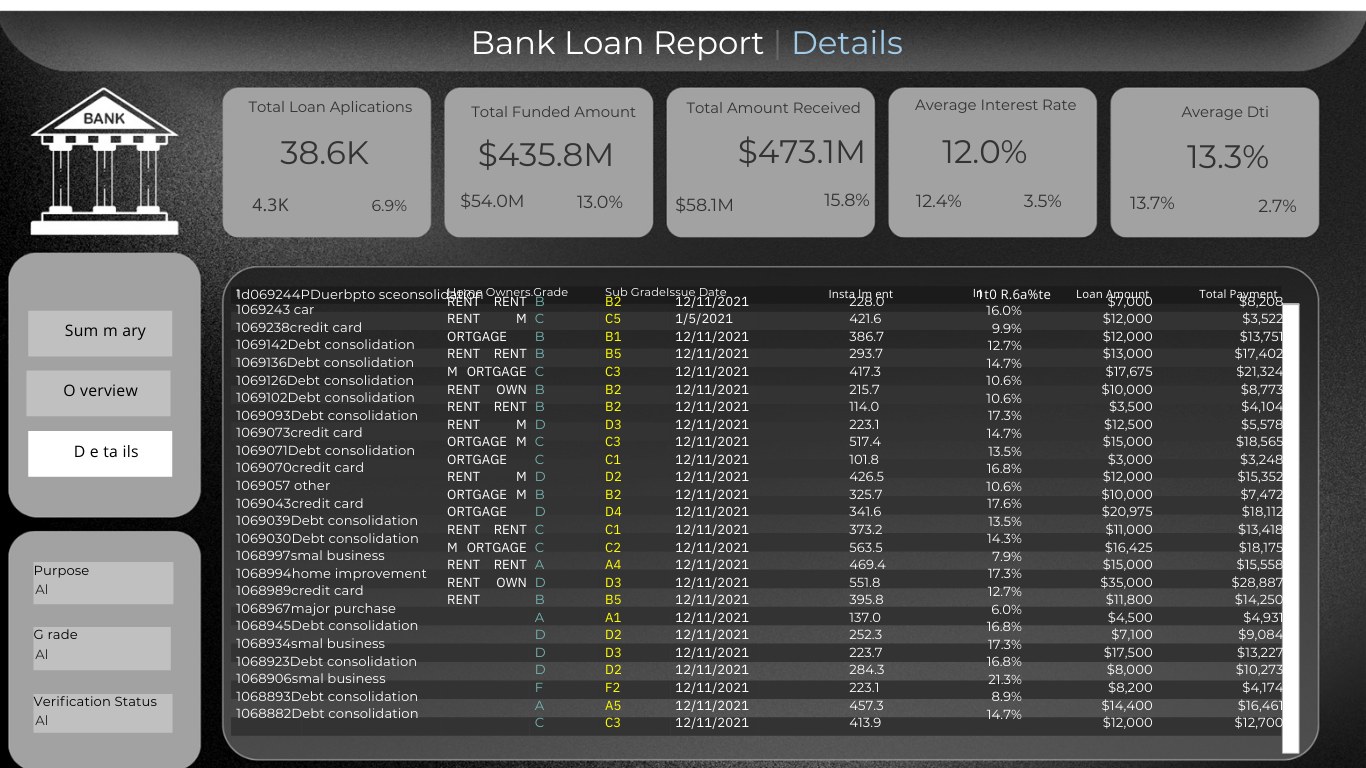

The page's visual inventory and layout, read from the dashboard file:
{"tool":"tableau","page":{"name":"Details","canvas":[1600,900],"ordinal":0},"visuals":[{"type":"image","param":"C:/Users/Elish/Downloads/Bank Tableau dashboard/5.png","box":[8,8,1584,884]},{"type":"text","box":[534,27,510,50]},{"type":"worksheet","title":"Average Interest Rate","mark":"Automatic","box":[1043,105,217,108]},{"type":"worksheet","title":"Total amounrt Received","mark":"Automatic","box":[786,107,222,113]},{"type":"worksheet","title":"Total Loan applications","mark":"Automatic","box":[281,108,224,104]},{"type":"worksheet","title":"Total Funded Loan","mark":"Automatic","box":[536,112,219,105]},{"type":"worksheet","title":"Average Dti","mark":"Automatic","box":[1298,112,218,106]},{"type":"worksheet","title":"MTD Total Funded Amount","mark":"Automatic","box":[533,202,102,63]},{"type":"worksheet","title":"MOM Average Interest Rate","mark":"Automatic","box":[1163,208,100,51]},{"type":"worksheet","title":"MOM Total Funded Amount","mark":"Automatic","box":[664,209,93,51]},{"type":"worksheet","title":"Mtd Interest Rate","mark":"Automatic","box":[1046,209,100,52]},{"type":"worksheet","title":"MTD Total Loan Applications","mark":"Automatic","box":[292,211,79,48]},{"type":"worksheet","title":"MTD Average Dti ","mark":"Automatic","box":[1290,212,100,47]},{"type":"worksheet","title":"MOM Total Amount Received ","mark":"Automatic","box":[914,215,93,49]},{"type":"worksheet","title":"MOM Average Dti","mark":"Automatic","box":[1442,215,77,49]},{"type":"worksheet","title":"MTD Total Amount Received","mark":"Automatic","box":[788,217,81,42]},{"type":"worksheet","title":"MOM loan Applications","mark":"Automatic","box":[436,223,65,32]},{"type":"worksheet","title":"Details tab","mark":"Automatic","rows":["id","purpose","home_ownership","grade","sub_grade","issue_date"],"box":[286,326,1217,532]},{"type":"dashboard-object","box":[55,354,164,52]},{"type":"dashboard-object","box":[53,422,164,52]},{"type":"dashboard-object","box":[55,491,164,52]},{"type":"filter","title":"Average Dti","param":"[federated.03zki4g1ypc76a12h7jzq18jh7zt].[none:purpose:nk]","box":[61,640,160,48]},{"type":"filter","title":"Average Dti","param":"[federated.03zki4g1ypc76a12h7jzq18jh7zt].[none:grade:nk]","box":[61,714,157,49]},{"type":"filter","title":"Average Dti","param":"[federated.03zki4g1ypc76a12h7jzq18jh7zt].[none:verification_status:nk]","box":[61,790,159,44]}]}

Visuals, with their boxes in screenshot pixels (x1, y1, x2, y2), scaled from the page's 1600x900 canvas onto the 1366x768 screenshot:
image: box=[7, 7, 1359, 761]
text: box=[456, 23, 891, 66]
"Average Interest Rate" worksheet: box=[890, 90, 1076, 182]
"Total amounrt Received" worksheet: box=[671, 91, 861, 188]
"Total Loan applications" worksheet: box=[240, 92, 431, 181]
"Total Funded Loan" worksheet: box=[458, 96, 645, 185]
"Average Dti" worksheet: box=[1108, 96, 1294, 186]
"MTD Total Funded Amount" worksheet: box=[455, 172, 542, 226]
"MOM Average Interest Rate" worksheet: box=[993, 177, 1078, 221]
"MOM Total Funded Amount" worksheet: box=[567, 178, 646, 222]
"Mtd Interest Rate" worksheet: box=[893, 178, 978, 223]
"MTD Total Loan Applications" worksheet: box=[249, 180, 317, 221]
"MTD Average Dti " worksheet: box=[1101, 181, 1187, 221]
"MOM Total Amount Received " worksheet: box=[780, 183, 860, 225]
"MOM Average Dti" worksheet: box=[1231, 183, 1297, 225]
"MTD Total Amount Received" worksheet: box=[673, 185, 742, 221]
"MOM loan Applications" worksheet: box=[372, 190, 428, 218]
"Details tab" worksheet: box=[244, 278, 1283, 732]
dashboard-object: box=[47, 302, 187, 346]
dashboard-object: box=[45, 360, 185, 404]
dashboard-object: box=[47, 419, 187, 463]
"Average Dti" filter: box=[52, 546, 189, 587]
"Average Dti" filter: box=[52, 609, 186, 651]
"Average Dti" filter: box=[52, 674, 188, 712]
